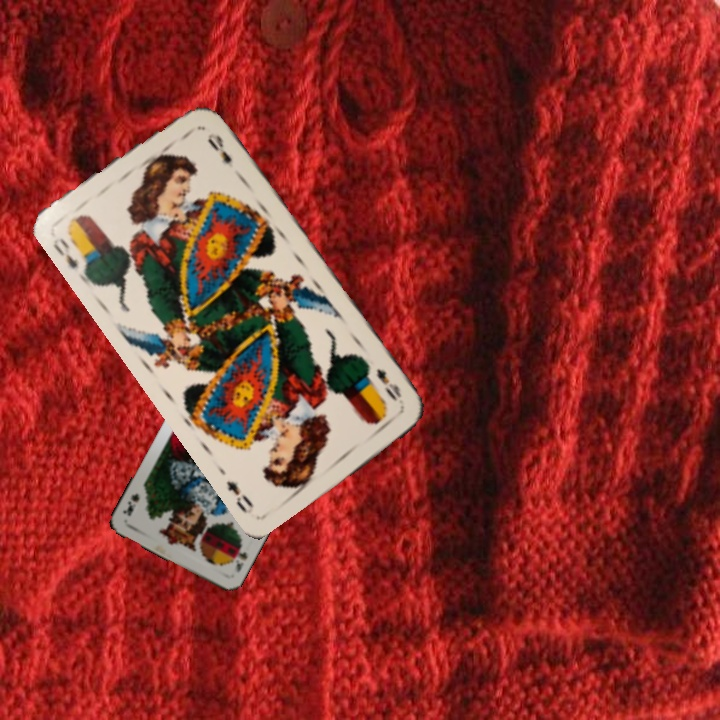EO: (48, 233, 92, 281), (372, 364, 405, 404)
SK: (225, 540, 250, 575)
